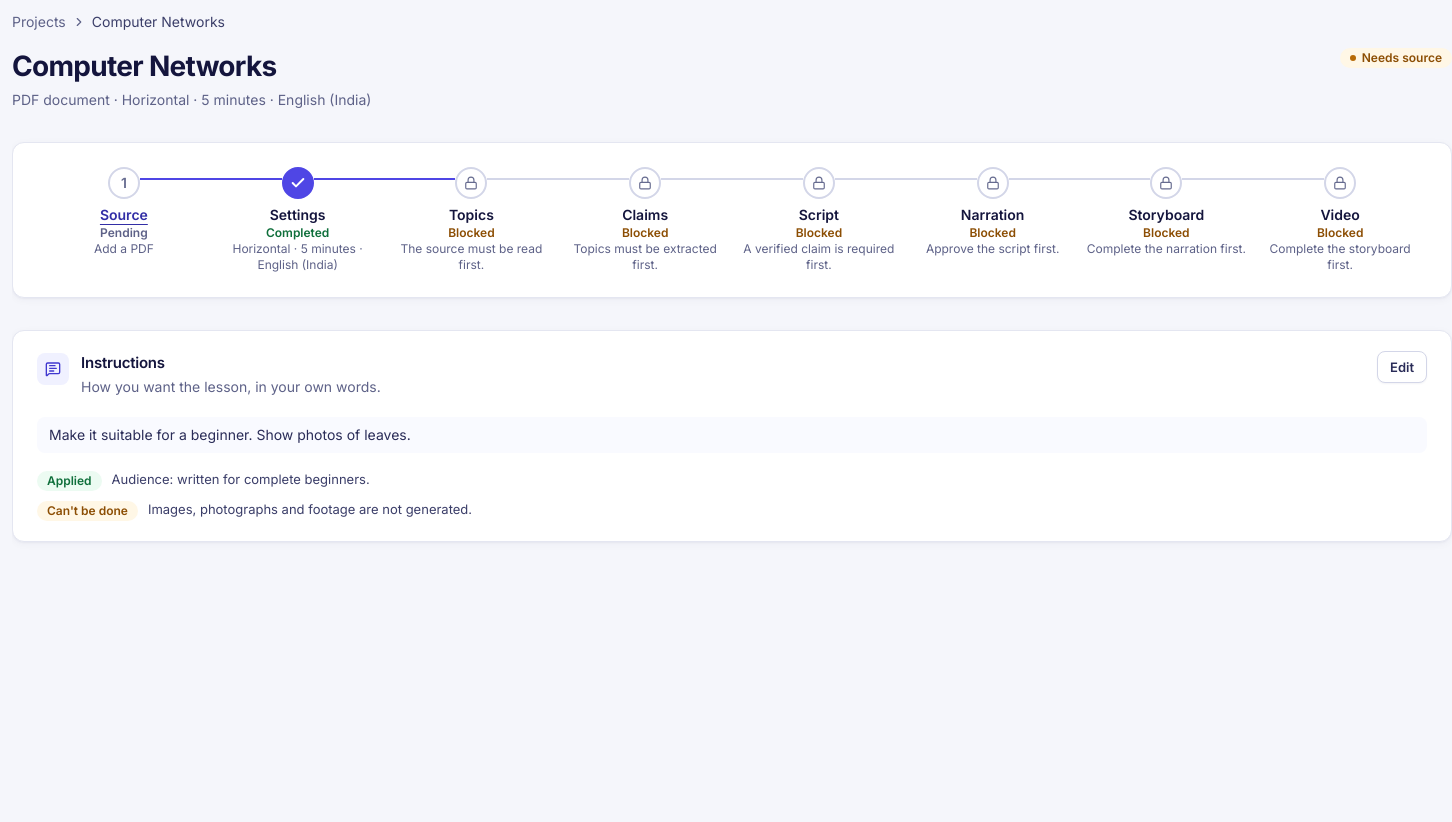
Instructions card › saves changed instructions, and clears them when emptied
Click the button "Edit" at (1402, 367), box [1377, 351, 1427, 383]
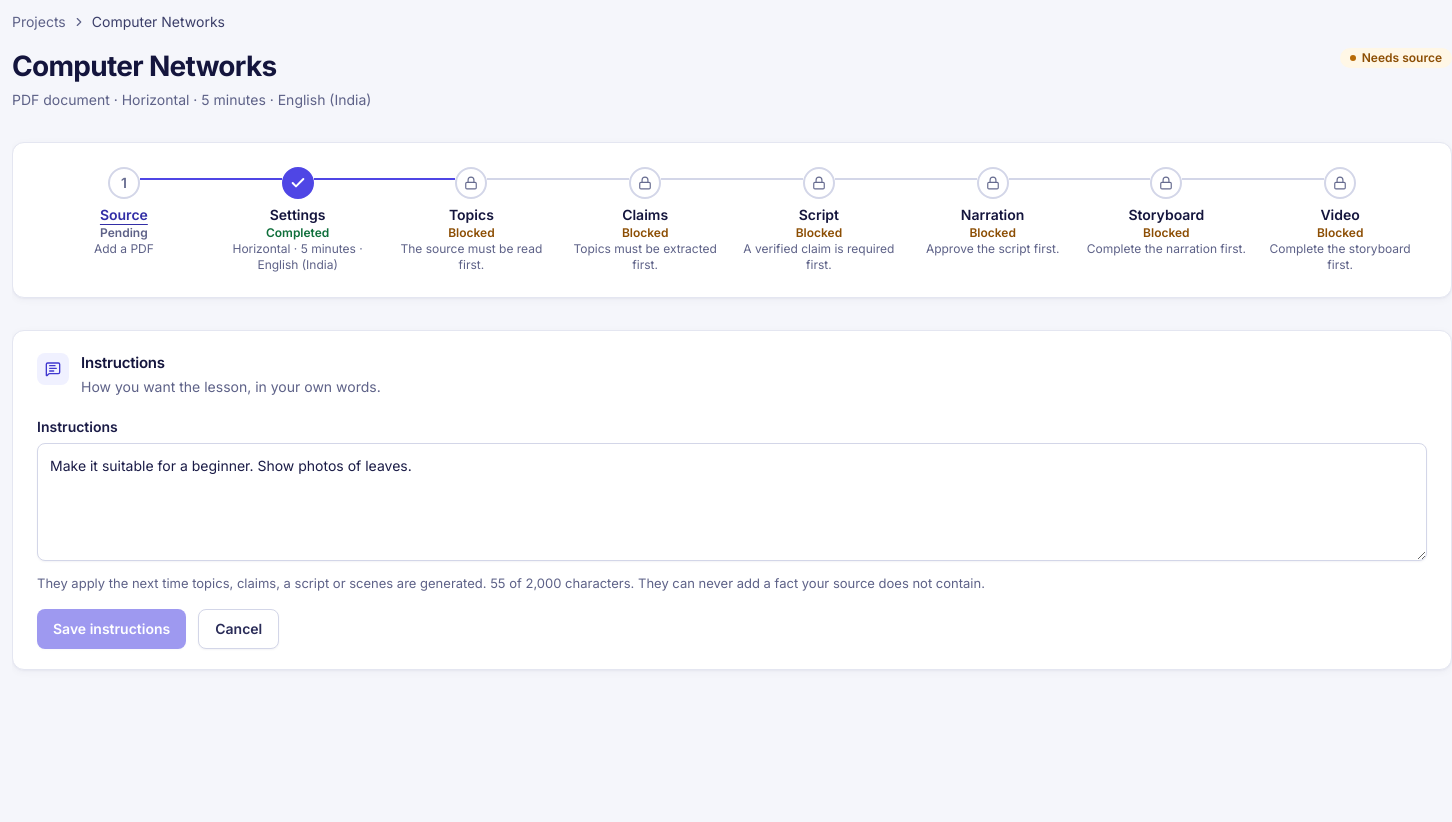
Replace the text in the text box labelled "Instructions" with "Focus on chapter 2." at (732, 502), box [37, 443, 1427, 561]
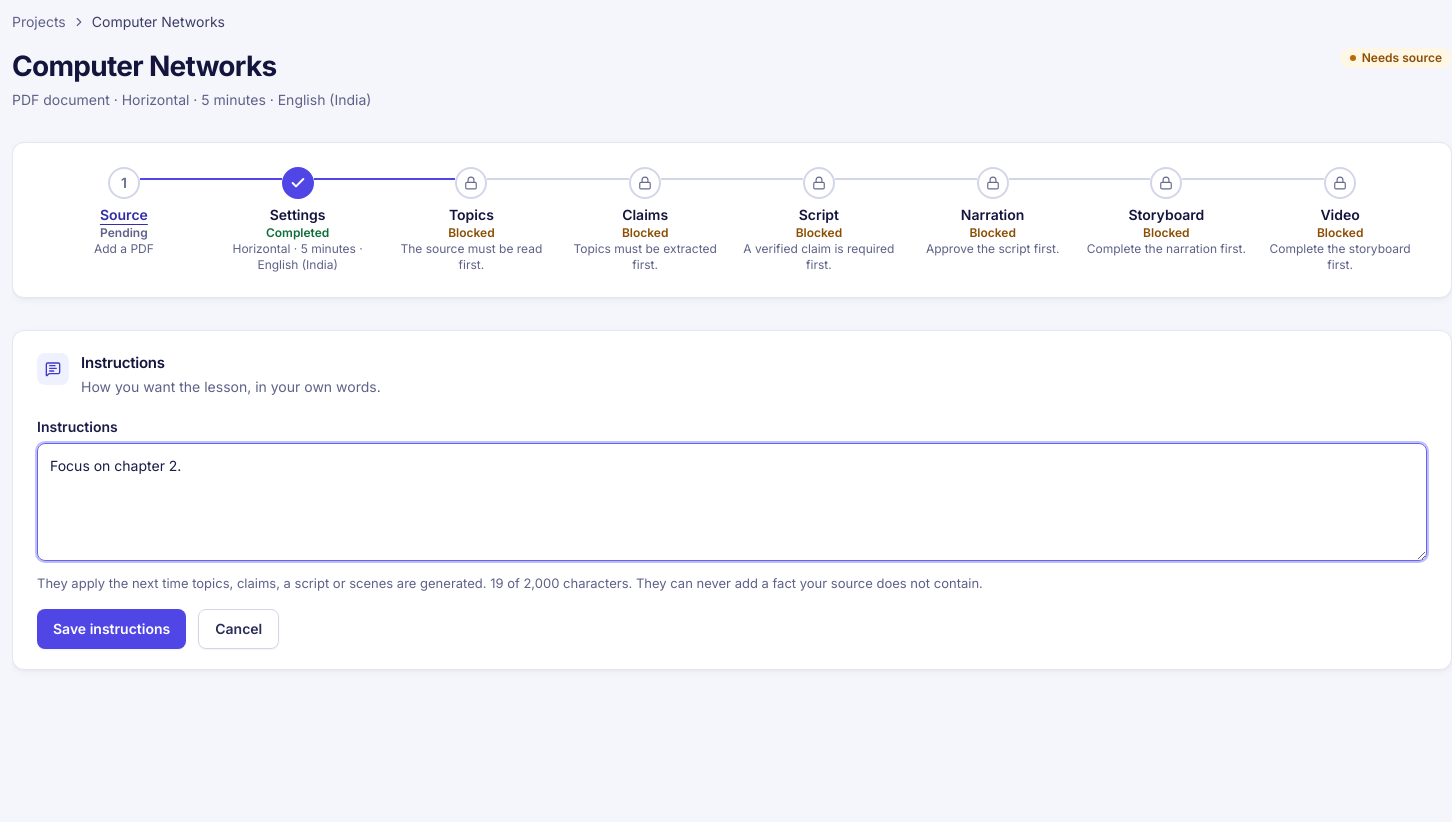
Click the button "Save instructions" at (112, 629), box [37, 609, 186, 649]
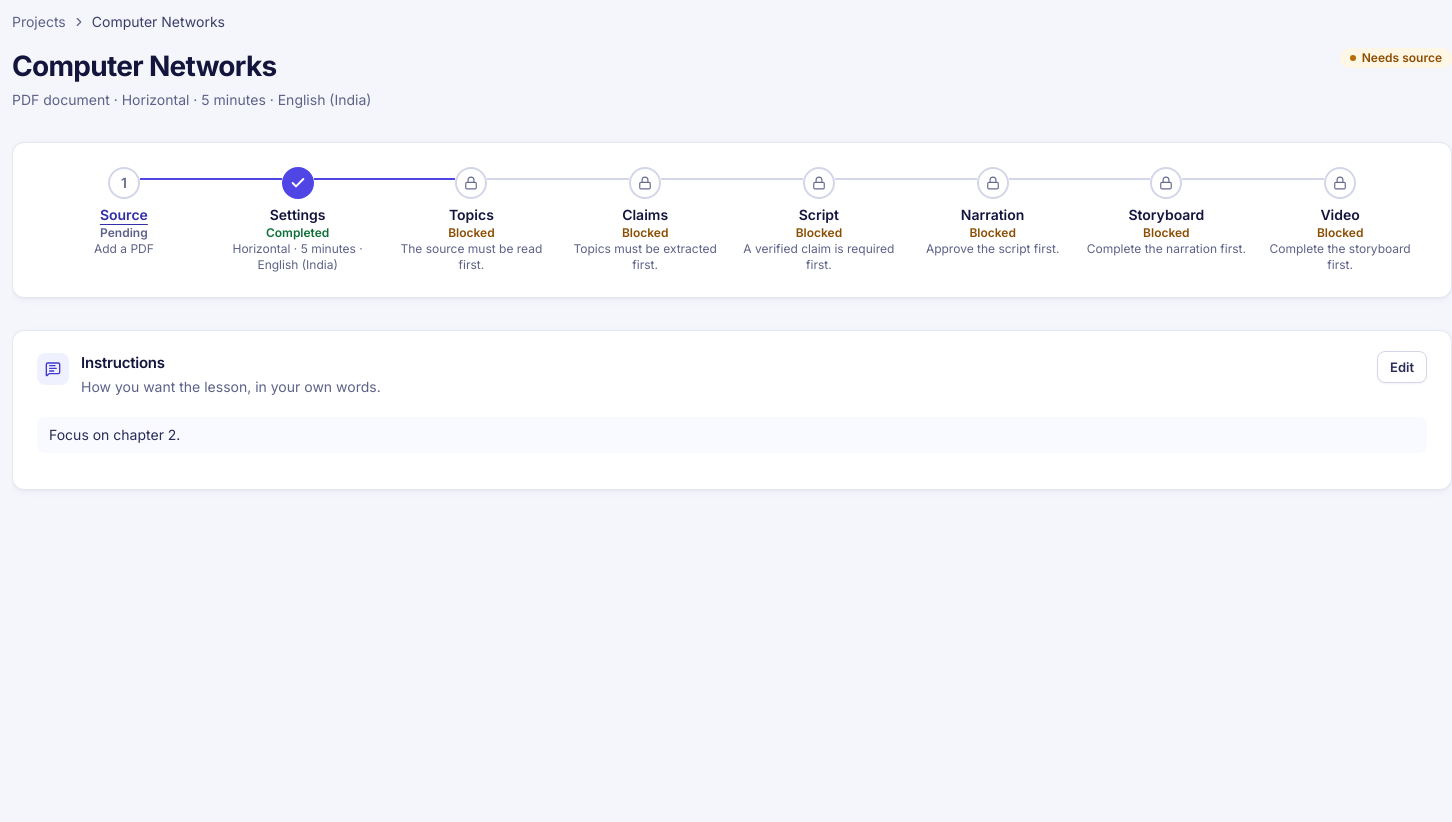
Now the button "Edit" is shown
Click the button "Edit" at (1402, 367), box [1377, 351, 1427, 383]
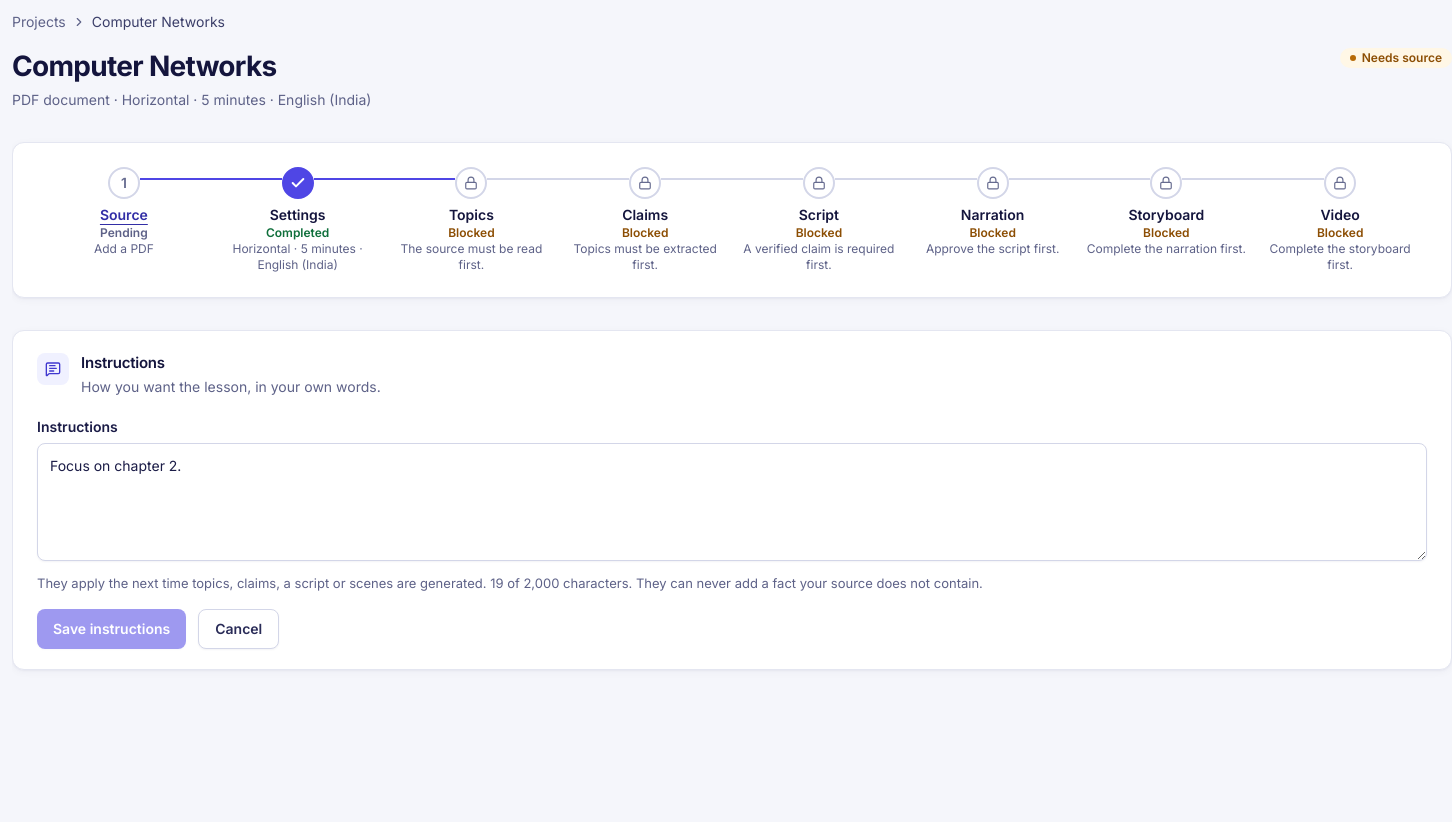
Clear the text box labelled "Instructions" at (732, 502), box [37, 443, 1427, 561]
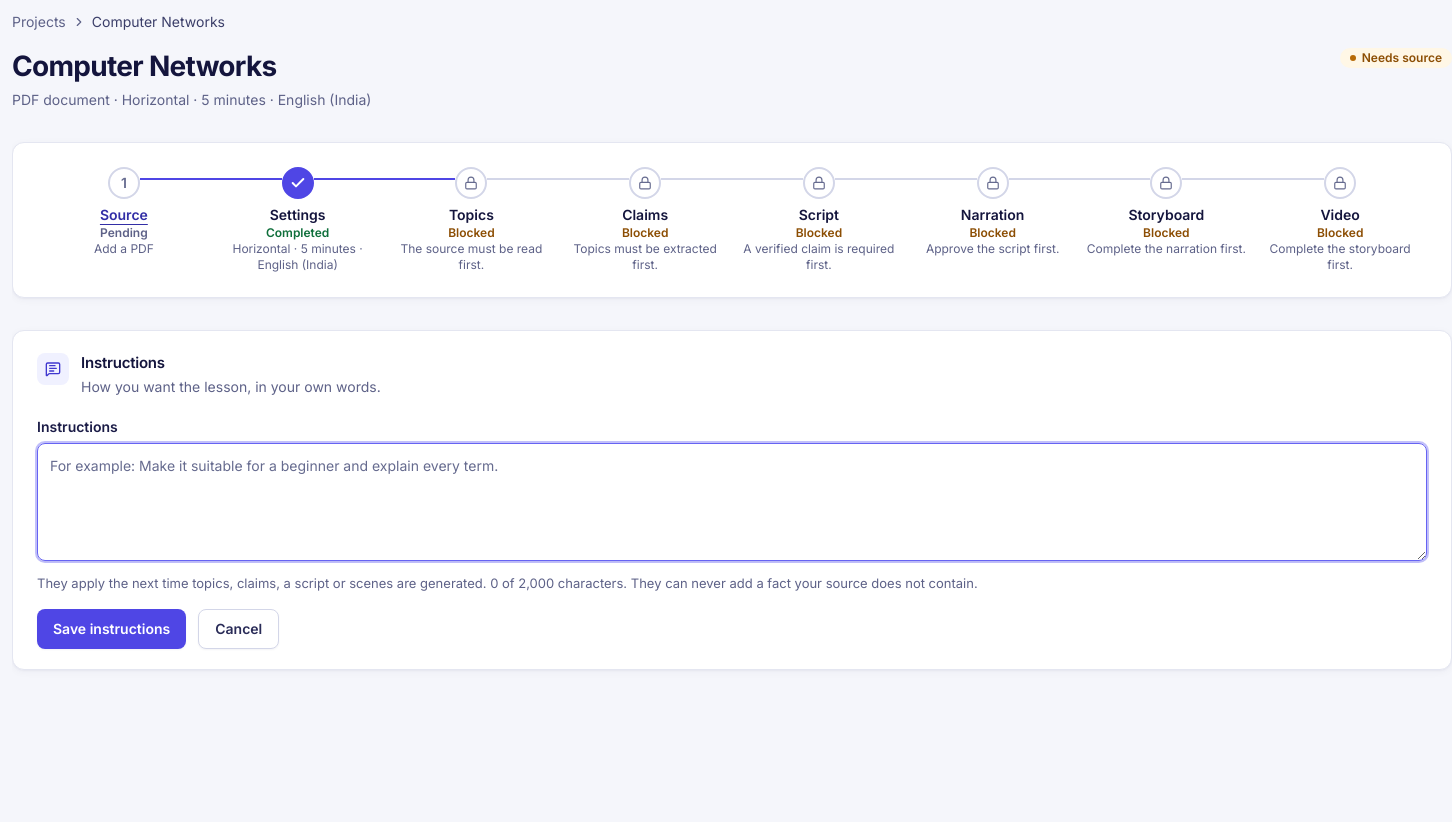
Click the button "Save instructions" at (112, 629), box [37, 609, 186, 649]
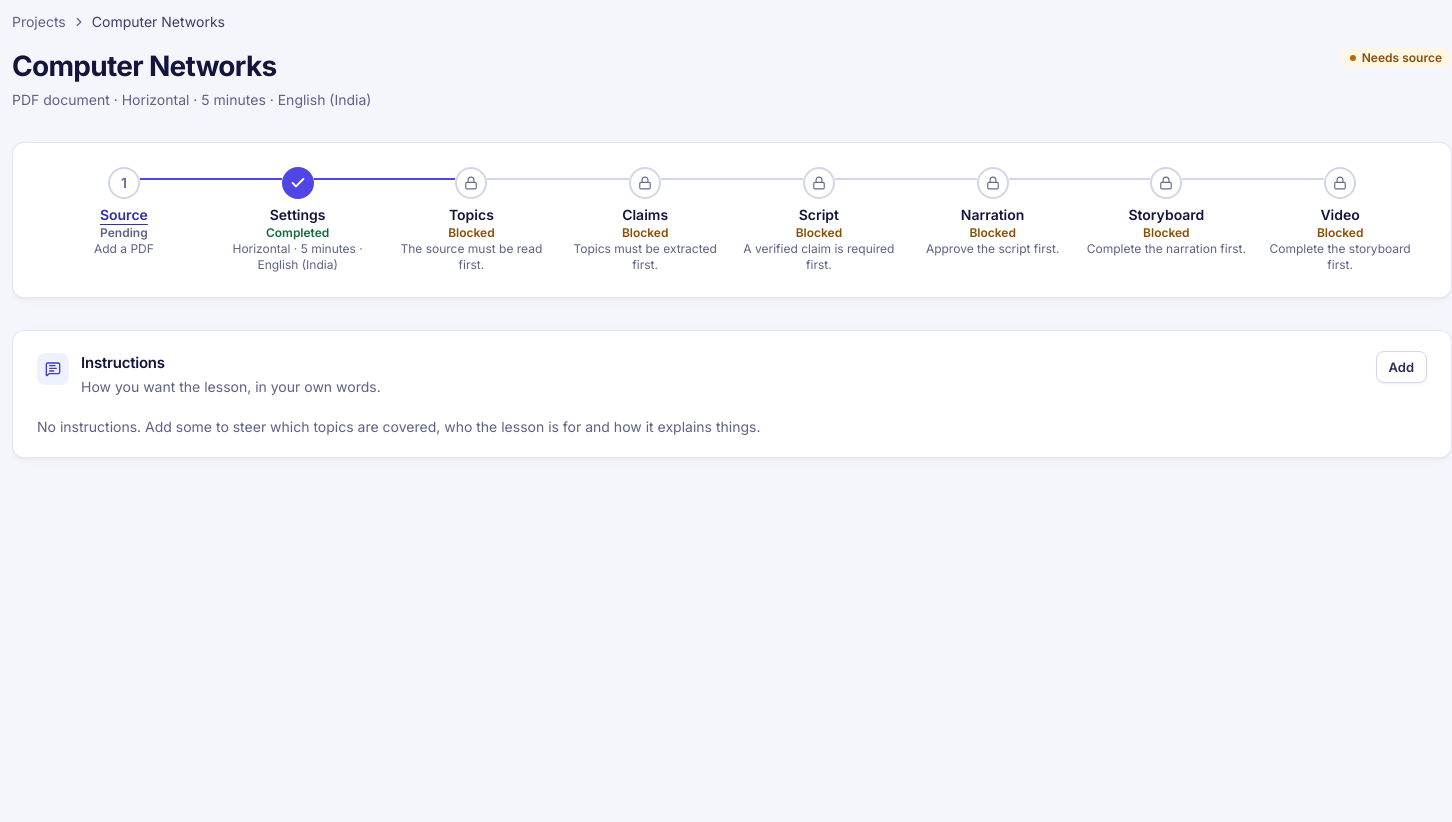
Now the text "No instructions." is shown, box [37, 418, 760, 435]
